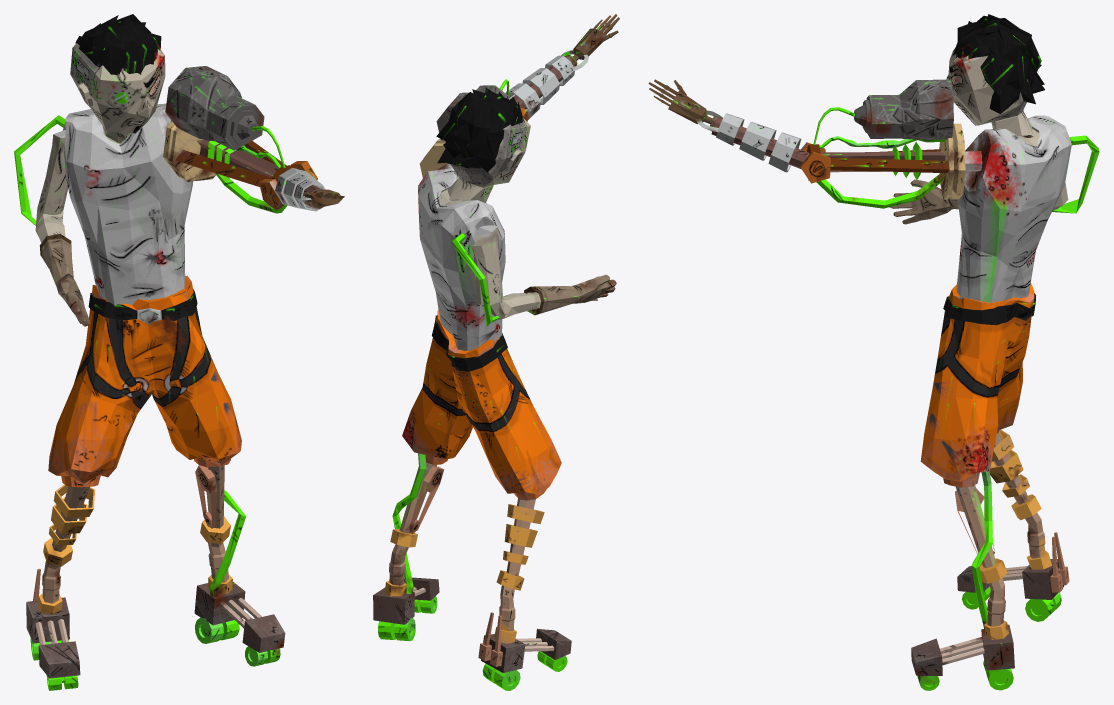
File: CyborgFINALAnimation_000068.obj
3 views of the same model, side by side, from view 1: azimuth 30°, elevation 25°; view 2: azimuth 150°, elevation 25°; view 3: azimuth 270°, elevation 25° (orthographic). The views are drawn at different scales.
Parts seen in each view (by area): view 1: CyborgMesh_Cube.002; view 2: CyborgMesh_Cube.002; view 3: CyborgMesh_Cube.002.
Boxes of the visible parts, box(x1,y1,x2,y2) form: CyborgMesh_Cube.002: box(14, 14, 344, 690); CyborgMesh_Cube.002: box(373, 14, 619, 690); CyborgMesh_Cube.002: box(648, 14, 1099, 690).
Bounding box in the file's own units: 3.5 × 9.56 × 6.31.
